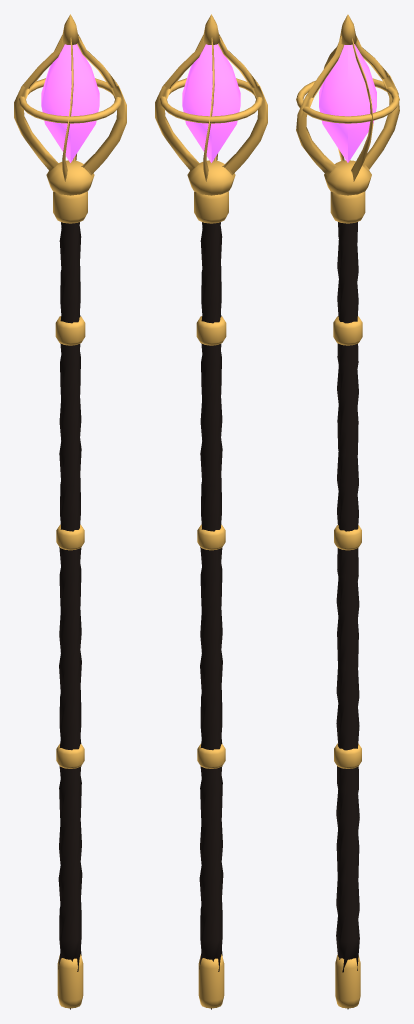
File: mm6_pmn2_artifact_staff.glb
The picture shows the model from 3 angles, left to right: view 1: azimuth 30°, elevation 25°; view 2: azimuth 210°, elevation 25°; view 3: azimuth 330°, elevation 25°; orthographic projection.
Visible parts, largest first — view 1: ArtifactStaff; view 2: ArtifactStaff; view 3: ArtifactStaff.
Boxes of the visible parts, bbox=[...] form: ArtifactStaff: bbox=[14, 14, 126, 1009]; ArtifactStaff: bbox=[155, 14, 267, 1009]; ArtifactStaff: bbox=[296, 14, 399, 1009].
Bounding box in the file's own units: 0.155 × 1.64 × 0.155.
